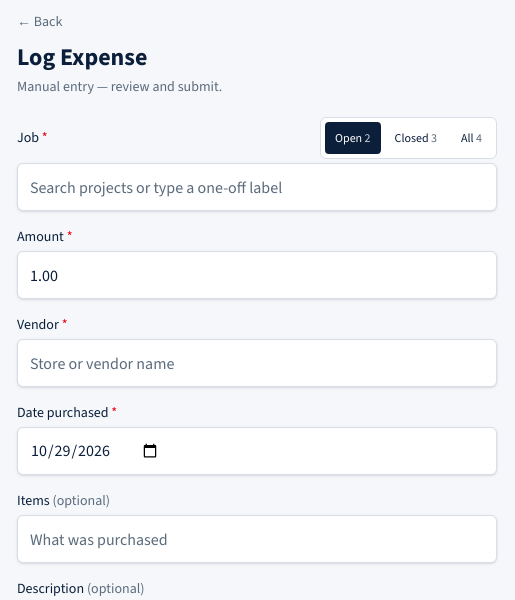
Scenario: Receipts job picker › offers a Show all hint when only Closed projects match the search
Type "smith" into the dropdown with placeholder "Search projects or type a one-off label" at (257, 187), box [17, 163, 497, 211]
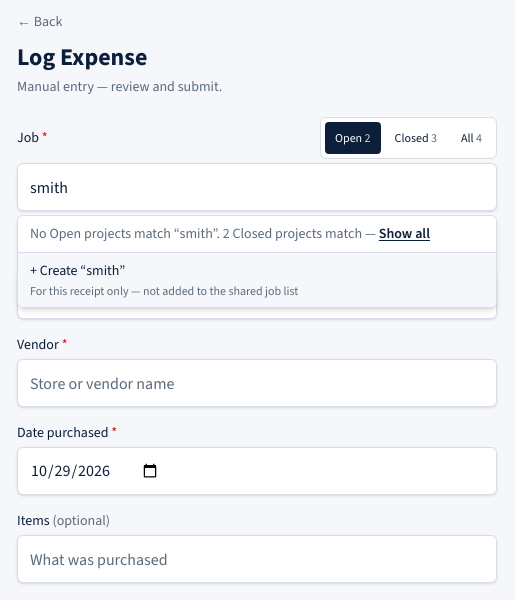
Now the element with test id "project-status-hint" shows "No Open projects match “smith”. 2 Closed projects match", box [30, 224, 362, 243]
Click the button "Show all" at (404, 234), box [379, 224, 430, 244]
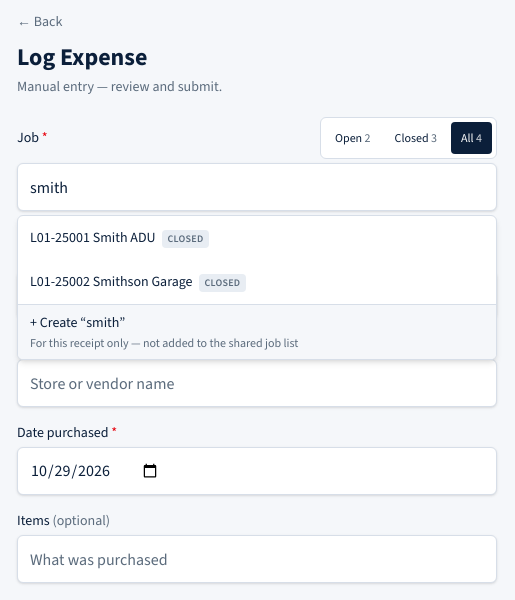
Now the options read "L01-25001 Smith ADUClosed", "L01-25002 Smithson GarageClosed", in this order, box [18, 216, 496, 260]; [18, 260, 496, 304]
